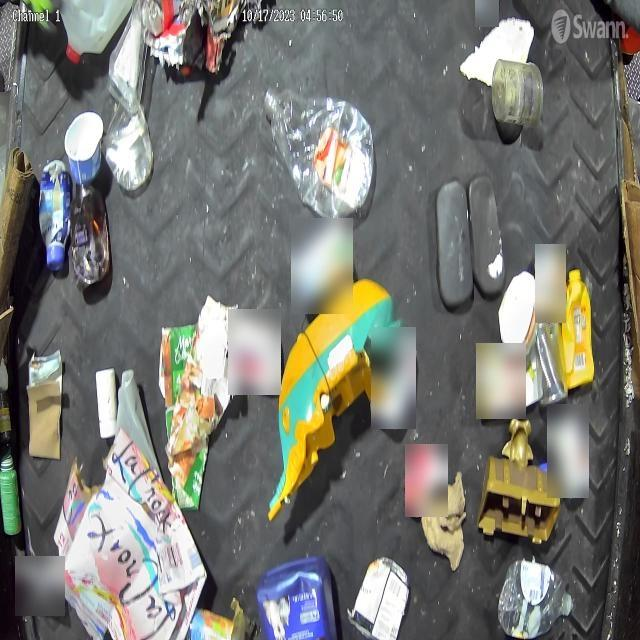milk_jug: (60, 0, 139, 63)
non_white_jug: (258, 556, 337, 640), (560, 268, 596, 391)
plastic_bottle: (260, 86, 373, 221), (496, 560, 570, 638)
